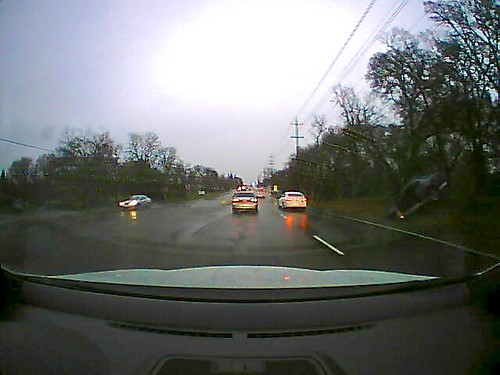car: (386, 172, 446, 222), (275, 189, 313, 215), (226, 187, 264, 213), (114, 192, 150, 210)
sky: (1, 1, 337, 128)
street: (1, 206, 500, 375)
vegetation: (288, 41, 500, 206), (1, 139, 240, 214)
